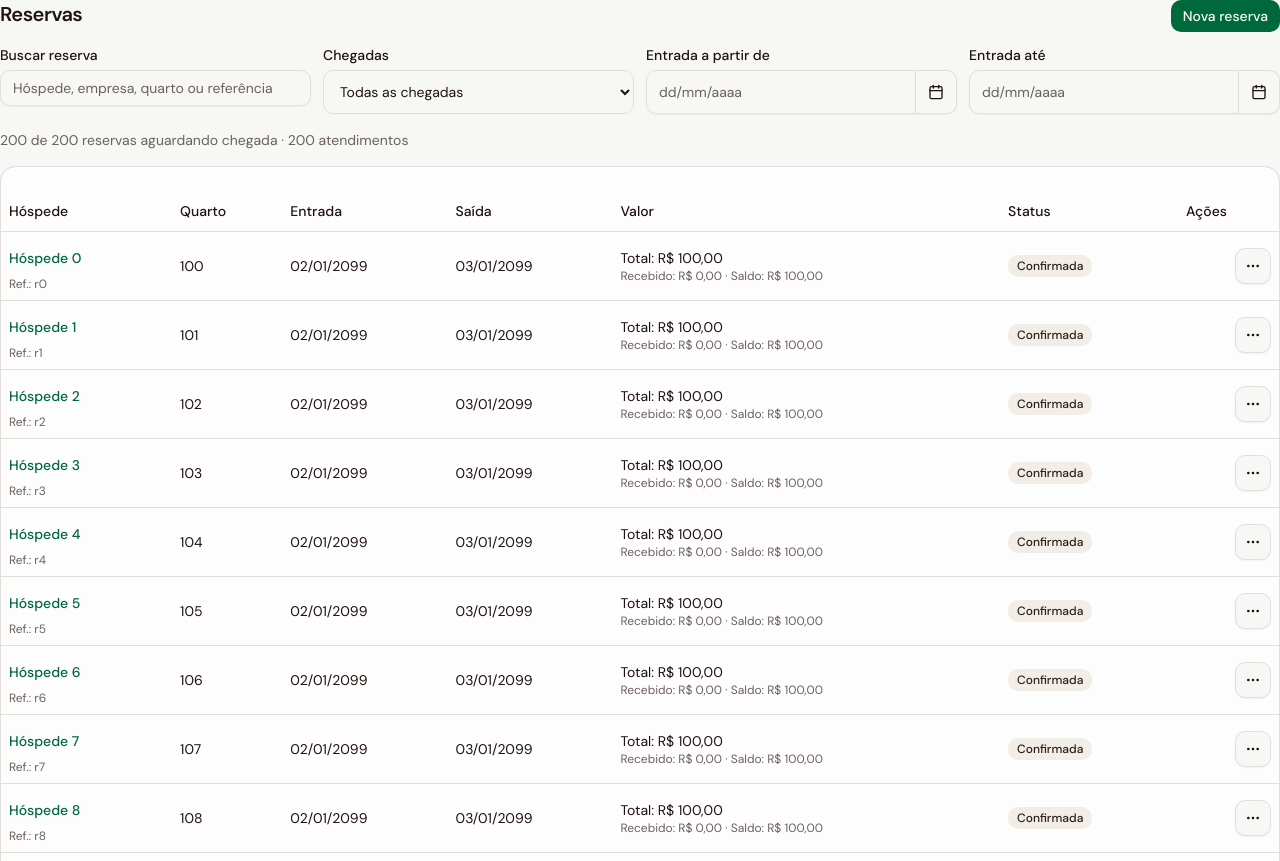
Test: opera a lista com duzentas reservas
Type "r199" into the field labelled "Buscar reserva" at (156, 88), box [0,70,311,106]
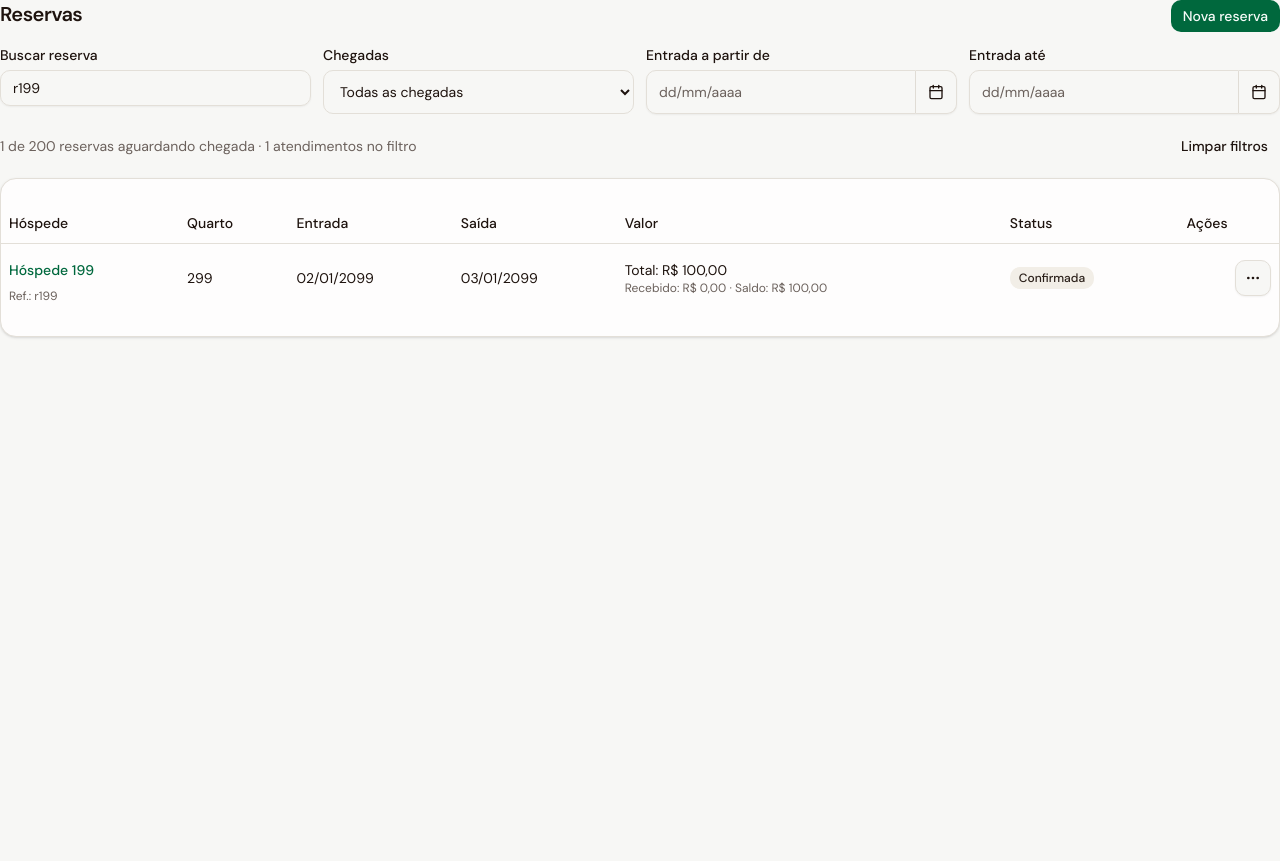
Expected: the number of rows is 2, [1,203,1279,243]; [1,243,1279,312]
Click the button "Hóspede 199" at (52, 270), box [9,252,94,288]
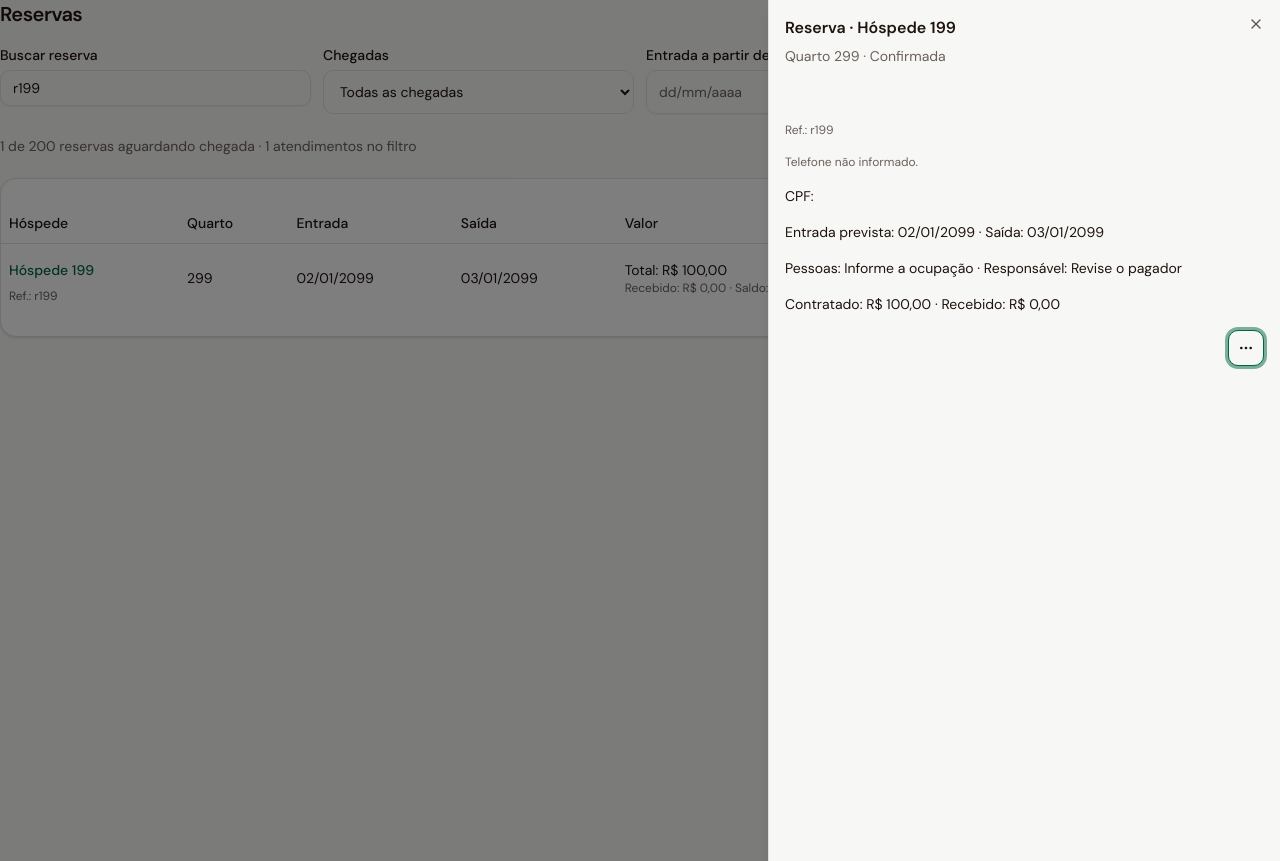
Expected: the dialog shows "Hóspede 199", [857,17,956,38]
